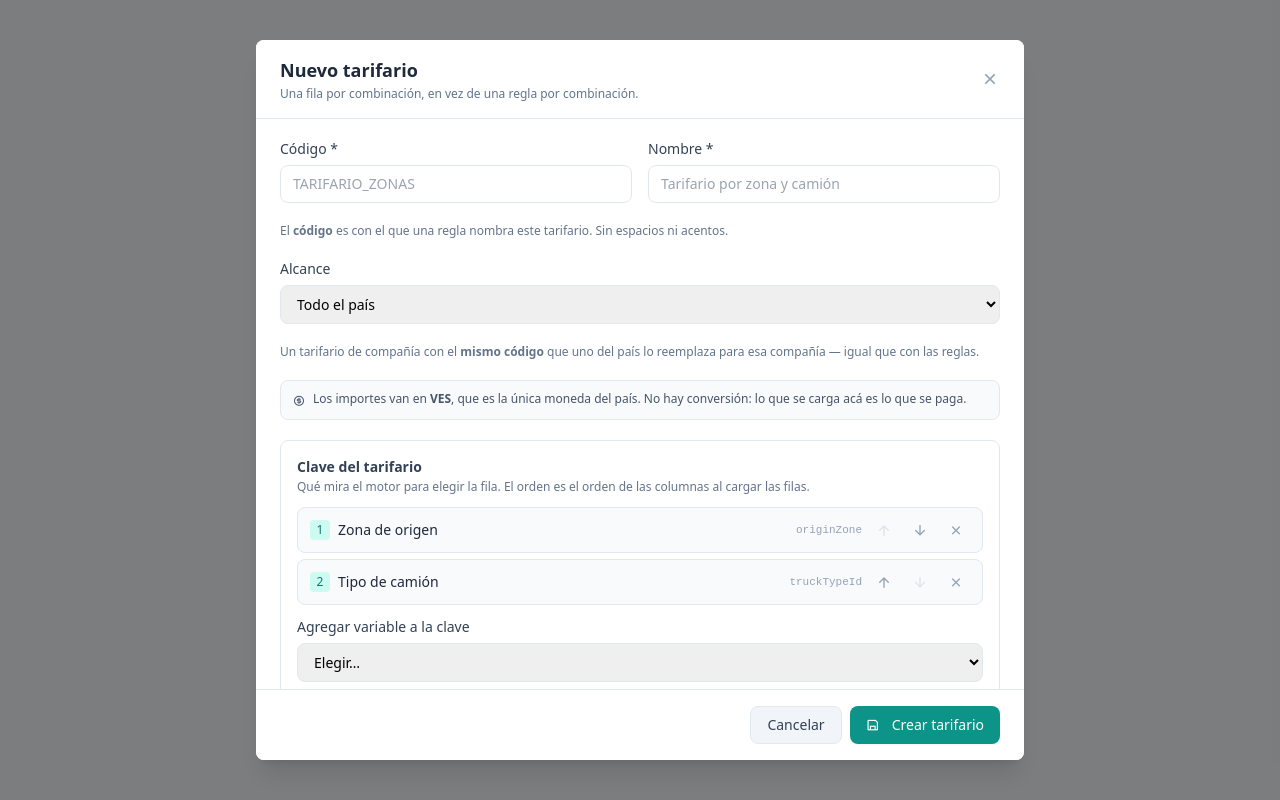
Test: RateTableModal (caracterización) › un código repetido en el país no se guarda
Type "ZONAS" into the field labelled "Código *" at (456, 184), box [280,165,632,203]
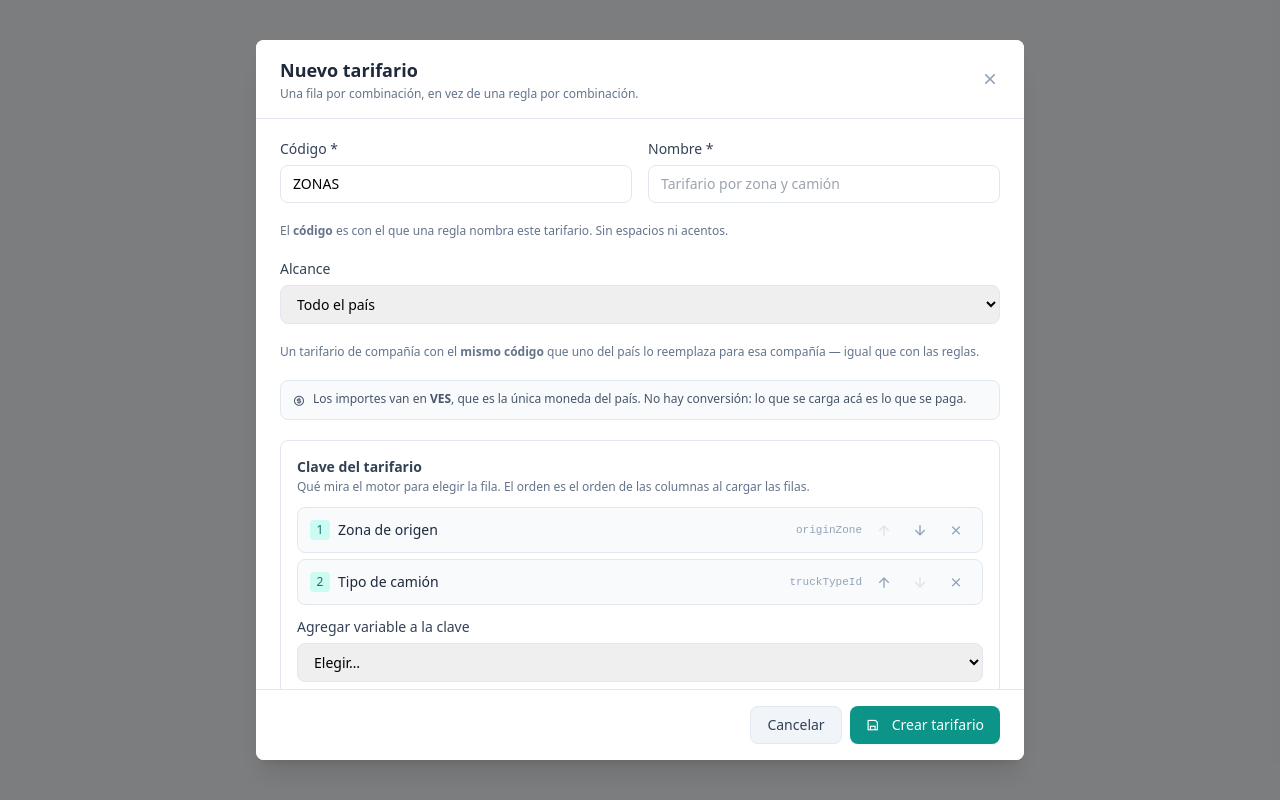
Type "Otra" into the field labelled "Nombre *" at (824, 184), box [648,165,1000,203]
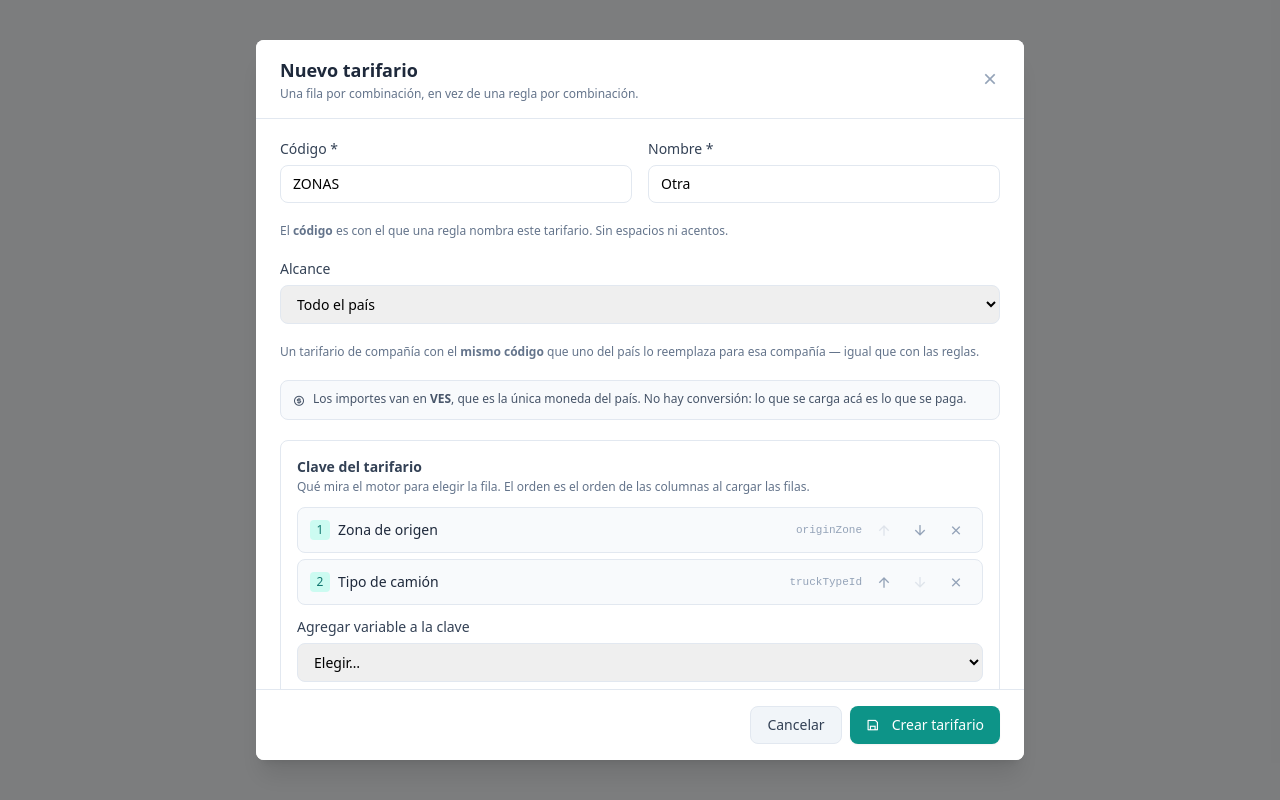
Click the button "Crear tarifario" at (925, 725), box [850,706,1000,744]
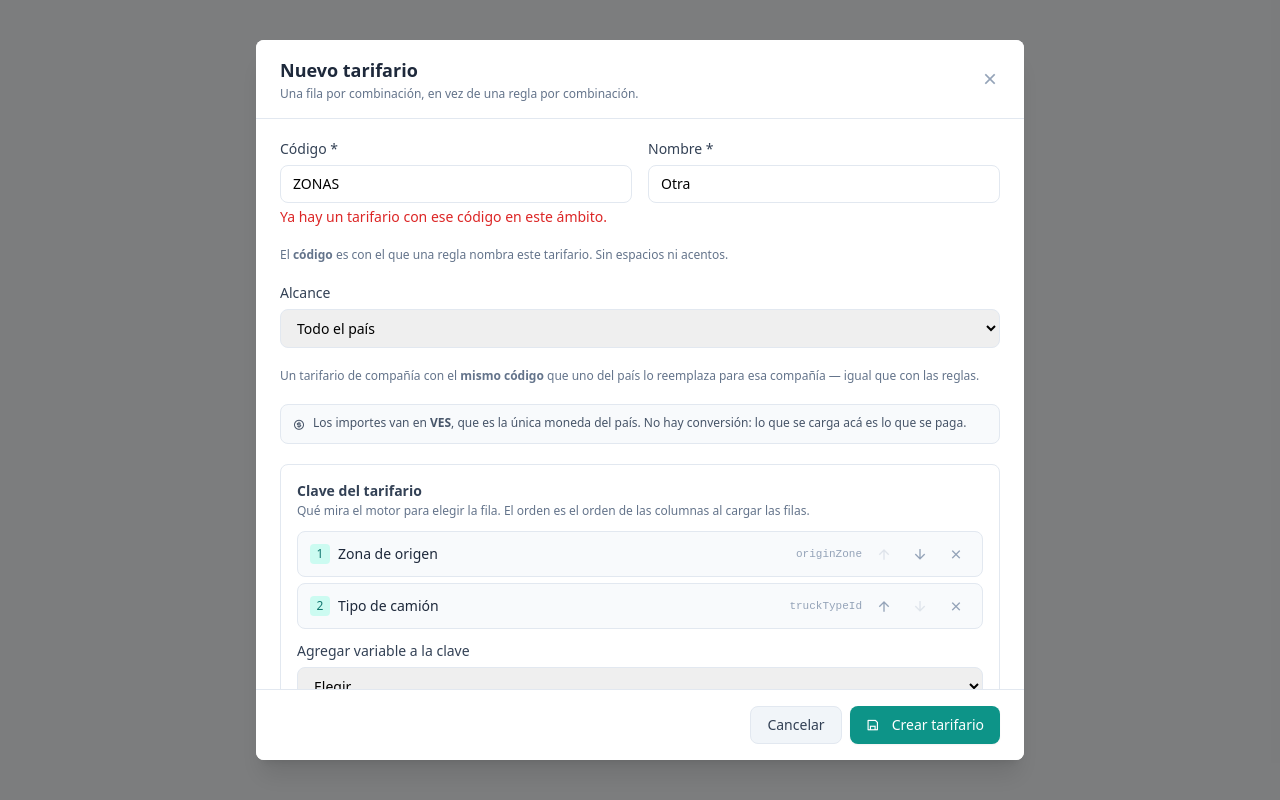
Now the text "Ya hay un tarifario con ese código en este ámbito." is shown, box [280,207,632,227]
